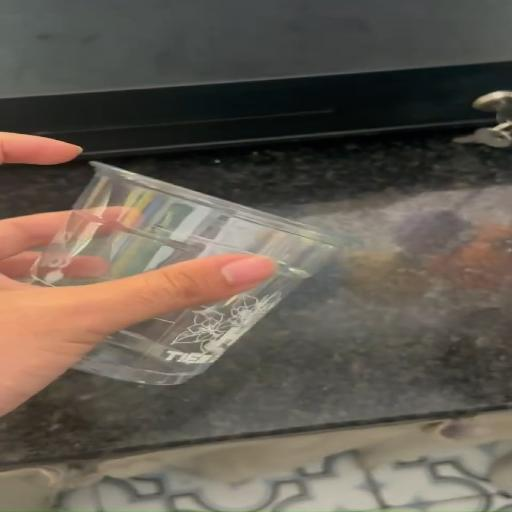ly_nhua: (29, 161, 334, 384)
